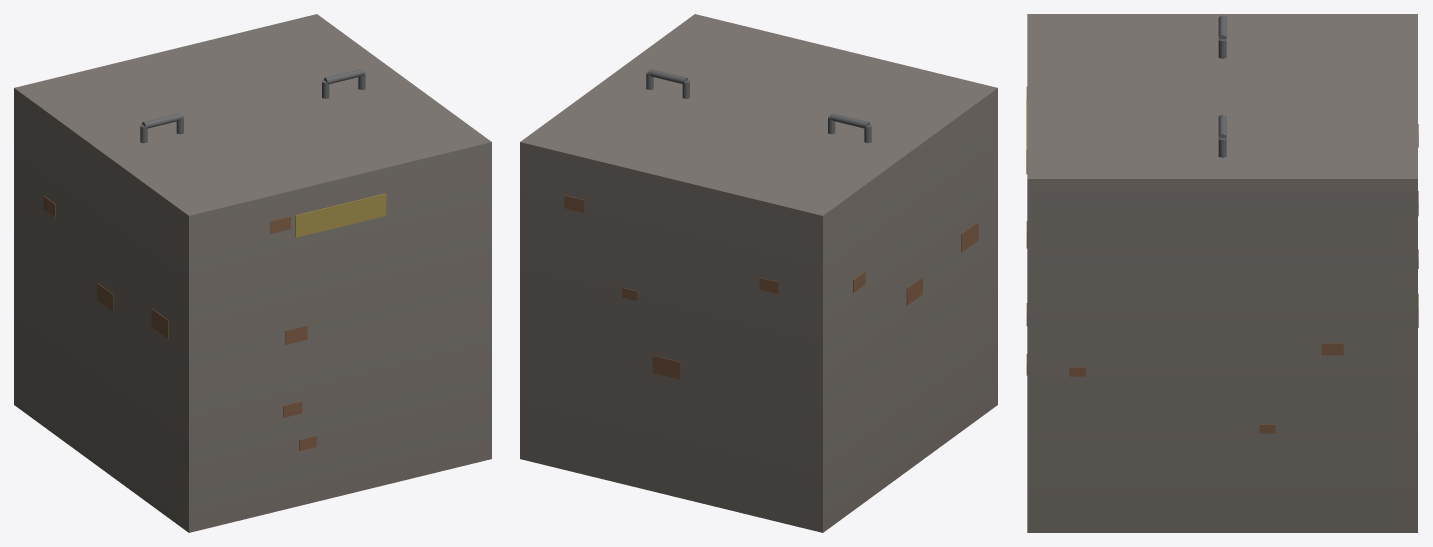
File: shieldHeavy_concrete.glb
3 views of the same model, side by side, from view 1: azimuth 30°, elevation 25°; view 2: azimuth 150°, elevation 25°; view 3: azimuth 270°, elevation 25° (orthographic). The views are drawn at different scales.
Visible parts, largest first — view 1: shieldHeavy_concrete; view 2: shieldHeavy_concrete; view 3: shieldHeavy_concrete.
Boxes of the visible parts, x1,y1,x2,y2 form: shieldHeavy_concrete: (14,14,491,532); shieldHeavy_concrete: (520,14,997,532); shieldHeavy_concrete: (1026,14,1418,532).
Bounding box in the file's own units: 1 × 1.06 × 1.
